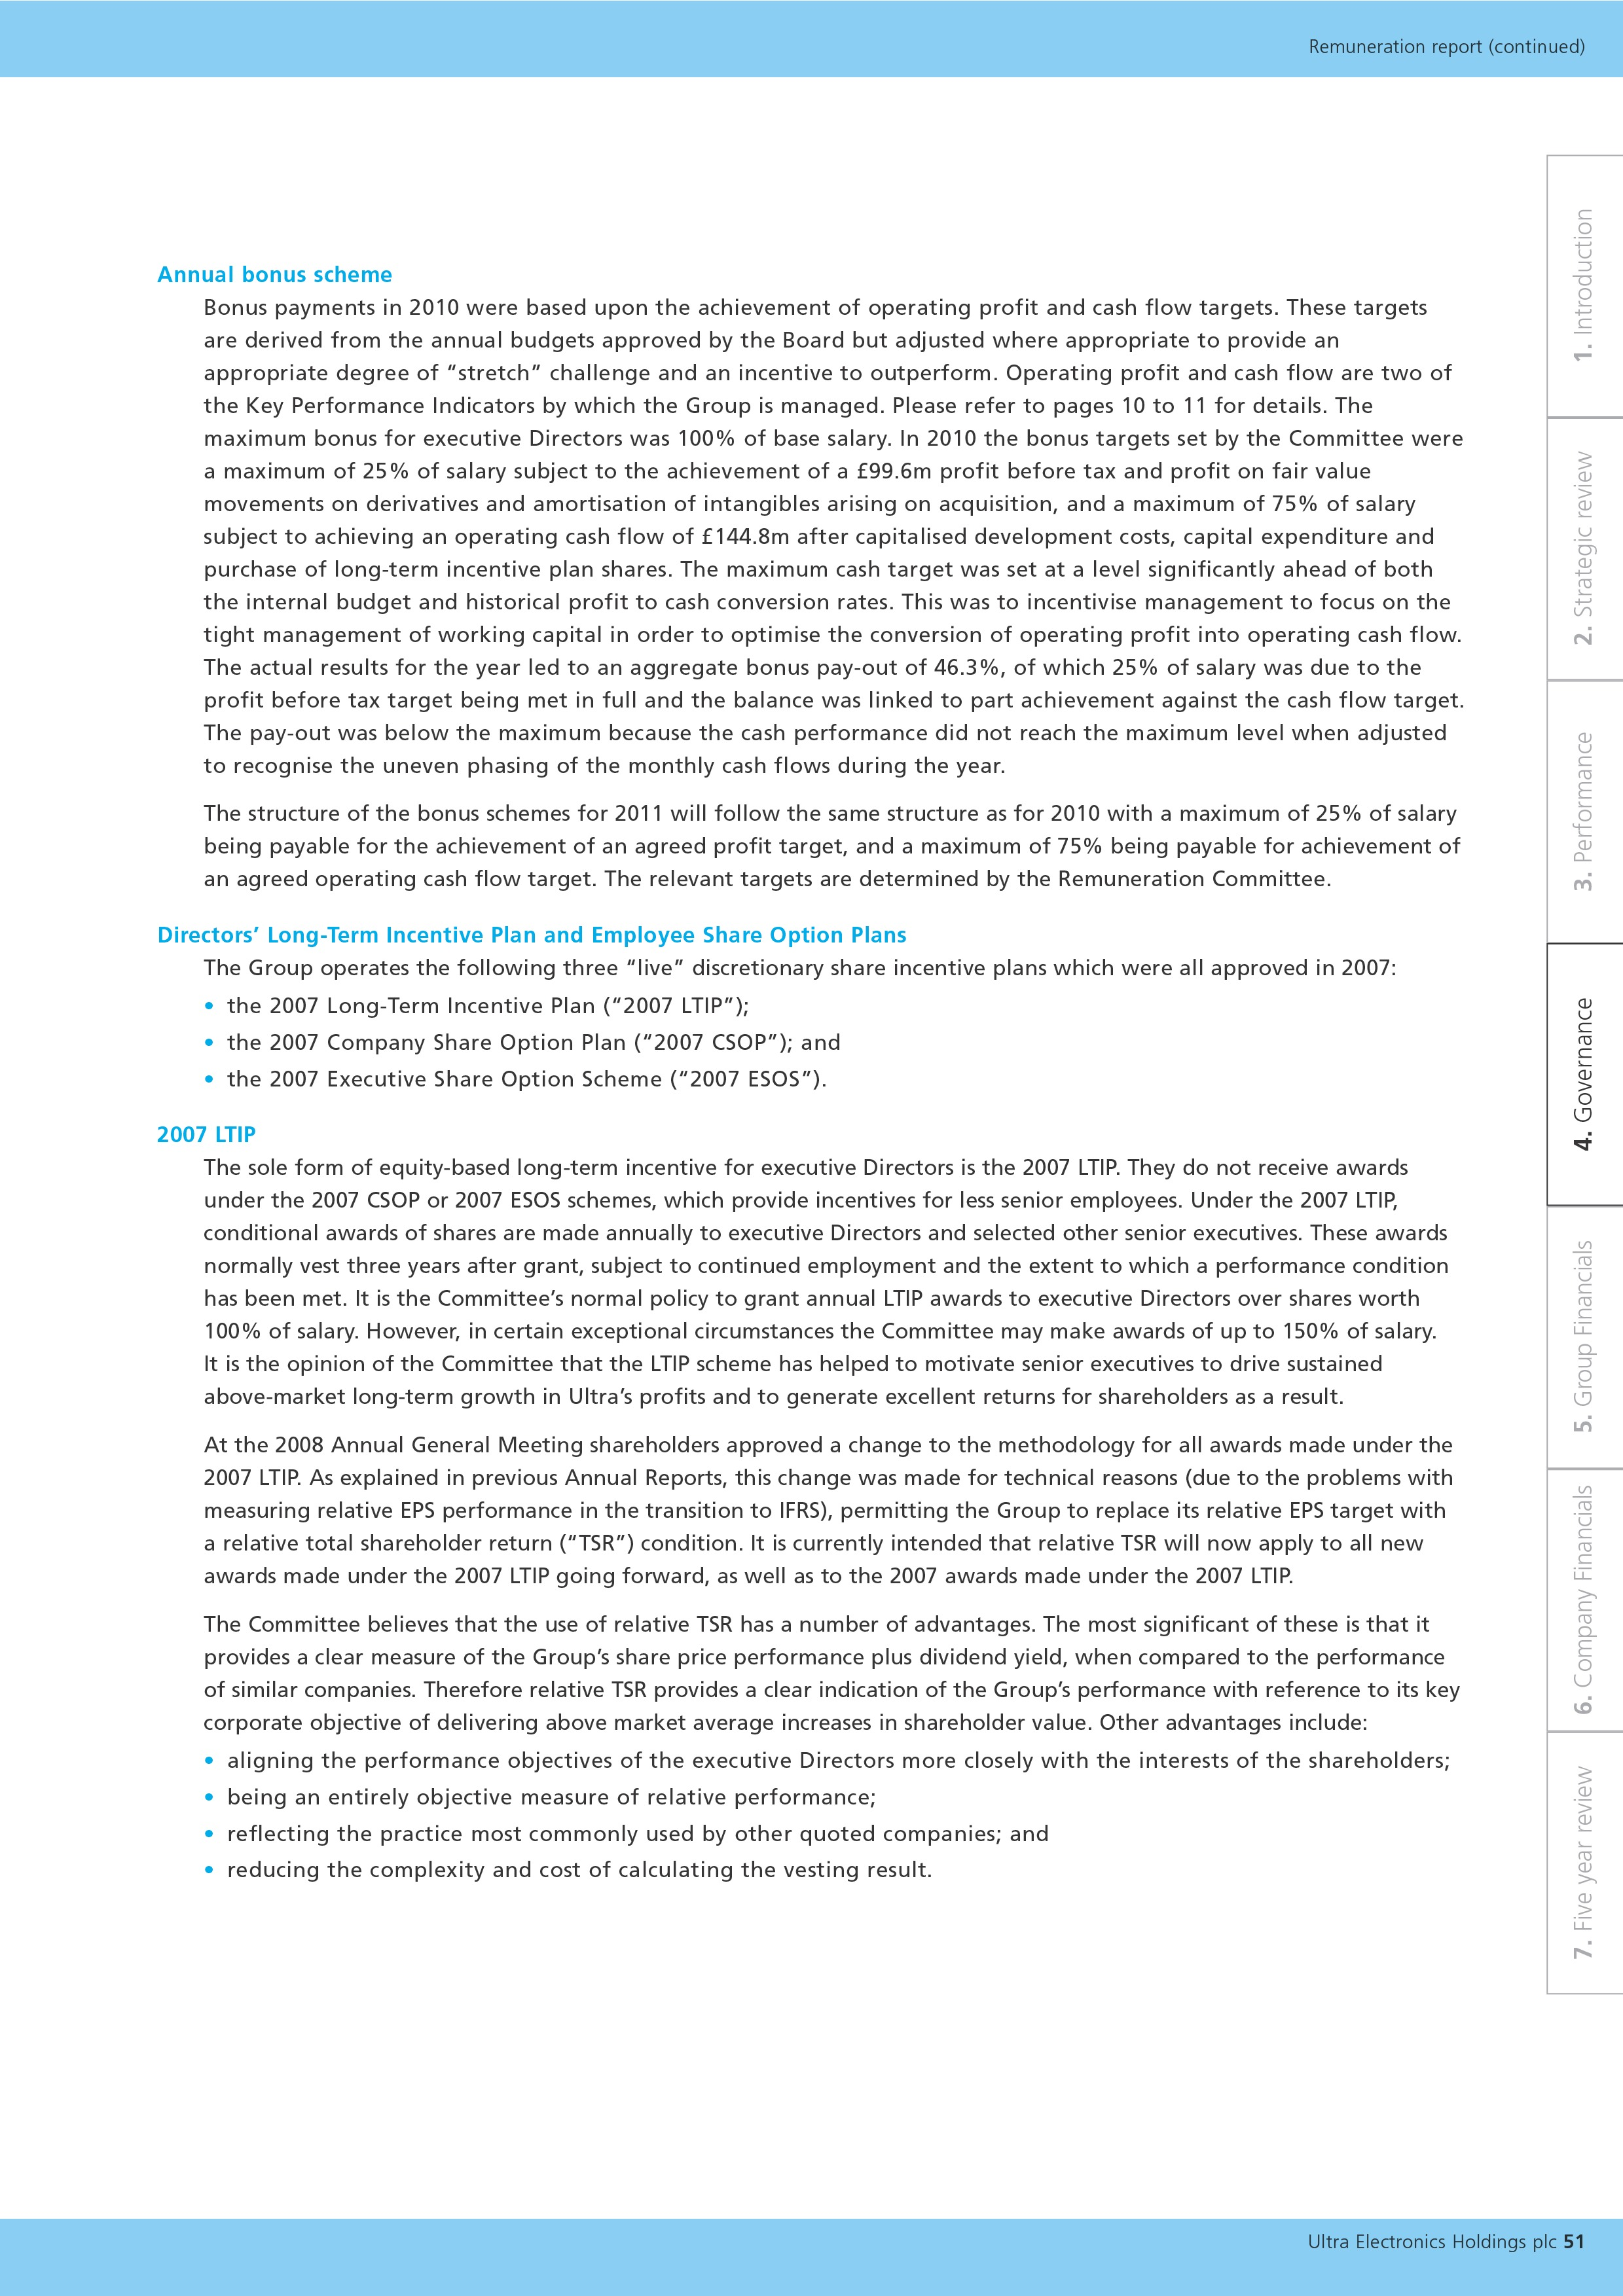list: (191, 1740, 1467, 1892), (195, 958, 1414, 1090)
section: (146, 906, 949, 965), (142, 248, 409, 291), (135, 1111, 270, 1160)
text: (188, 295, 1449, 883), (184, 1164, 1432, 1411), (191, 1431, 1449, 1597), (188, 1615, 1477, 1738)
